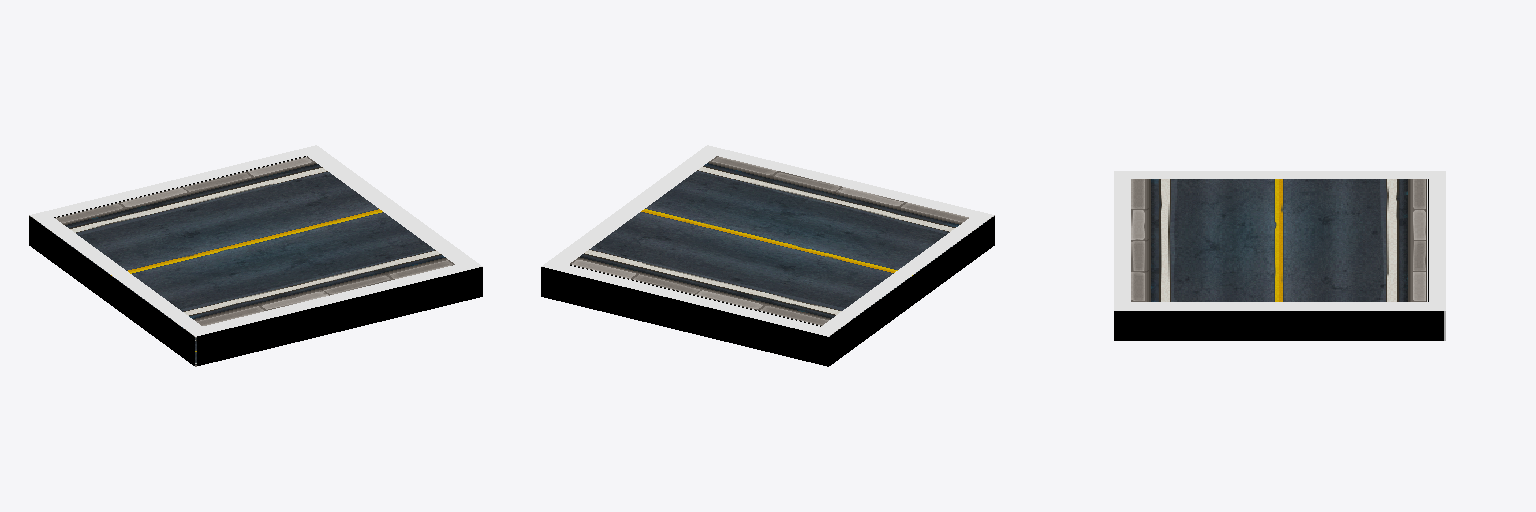
The picture shows the model from 3 angles: view 1: azimuth 30°, elevation 25°; view 2: azimuth 150°, elevation 25°; view 3: azimuth 270°, elevation 25°; orthographic projection.
Visible parts, largest first — view 1: Cube; view 2: Cube; view 3: Cube.
Boxes of the visible parts, <box> form: Cube: <box>29,145,482,366</box>; Cube: <box>541,145,994,366</box>; Cube: <box>1114,171,1445,340</box>.
Size of the model in its own units: 2 by 0.2 by 2.
Materials: 1 (1 with a texture image).